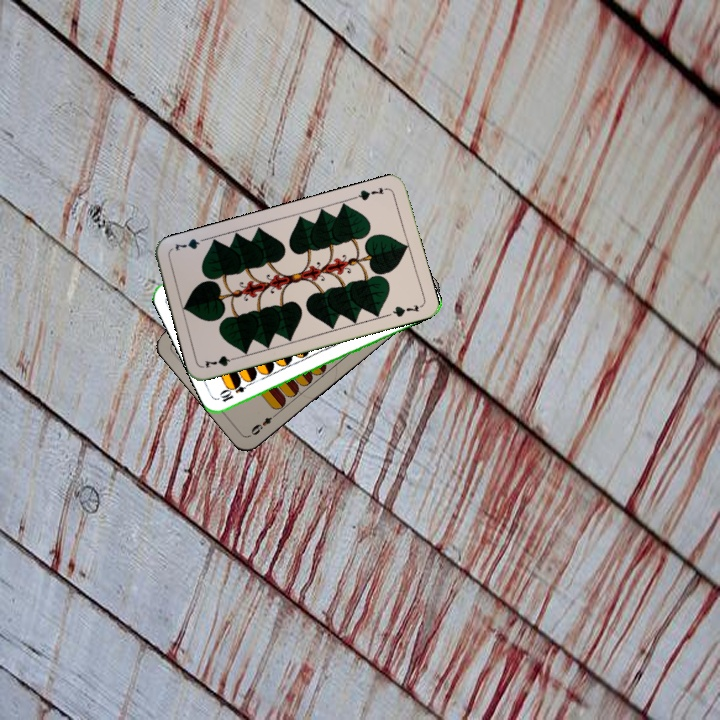E10: (216, 377, 254, 405)
E9: (247, 408, 280, 438)
G7: (201, 351, 241, 371), (350, 183, 390, 203)
